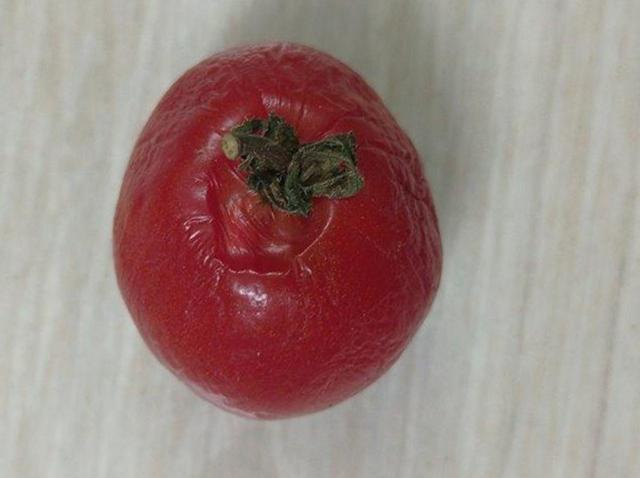defect: (109, 38, 455, 424)
